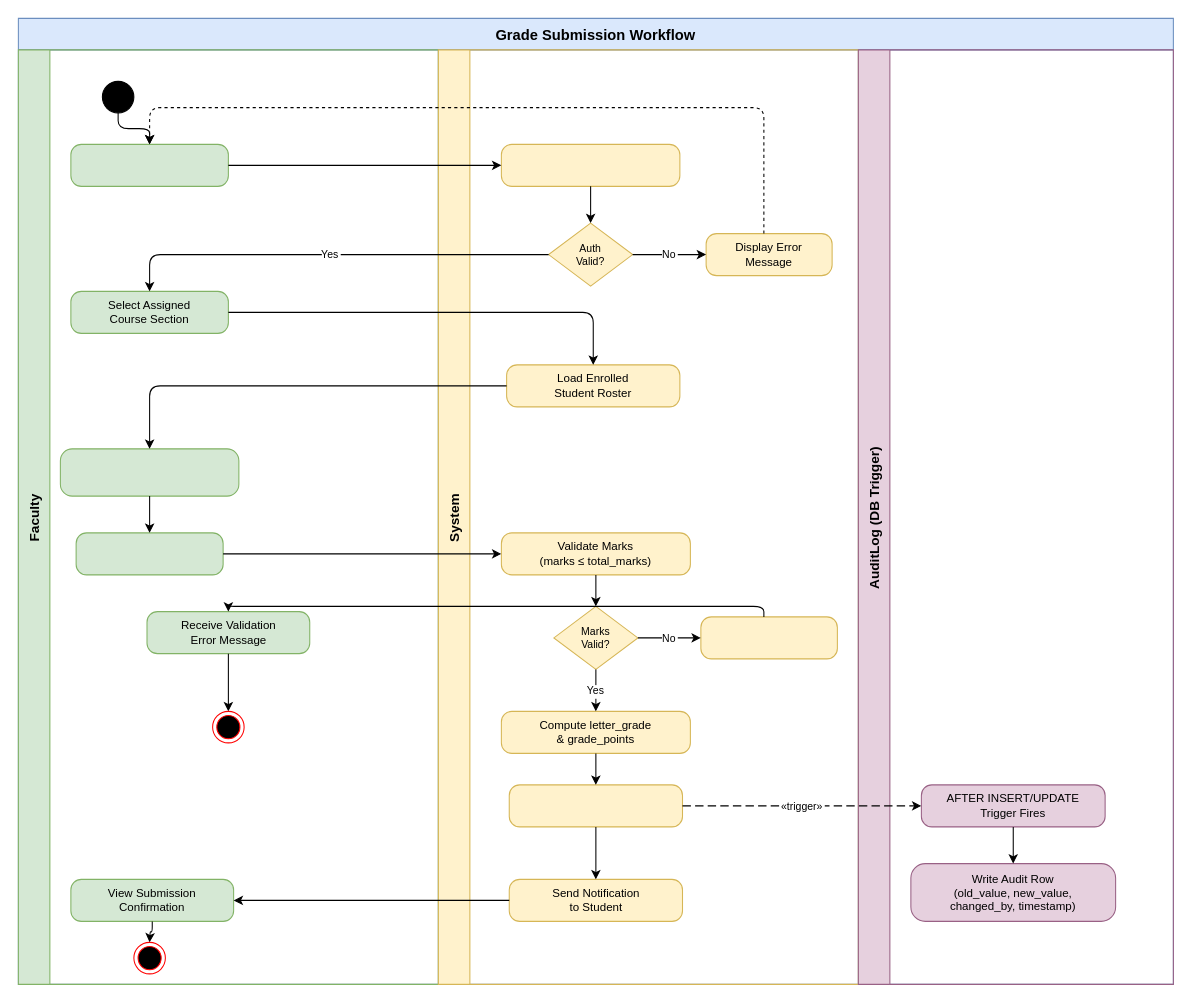
This 1192x1003 diagram has some shape labels left out. The centre of each missing label's shape, as x and y in pixels:
"Enter marks_obtained & total_marks per Student" belongs at (x=149, y=472).
"INSERT / UPDATE grades Table" belongs at (x=595, y=805).
"Login & Authenticate" belongs at (x=149, y=164).
"Return Validation Error" belongs at (x=768, y=637).
"Submit Grades" belongs at (x=149, y=553).
"Validate Session & Faculty Role" belongs at (x=590, y=164).
